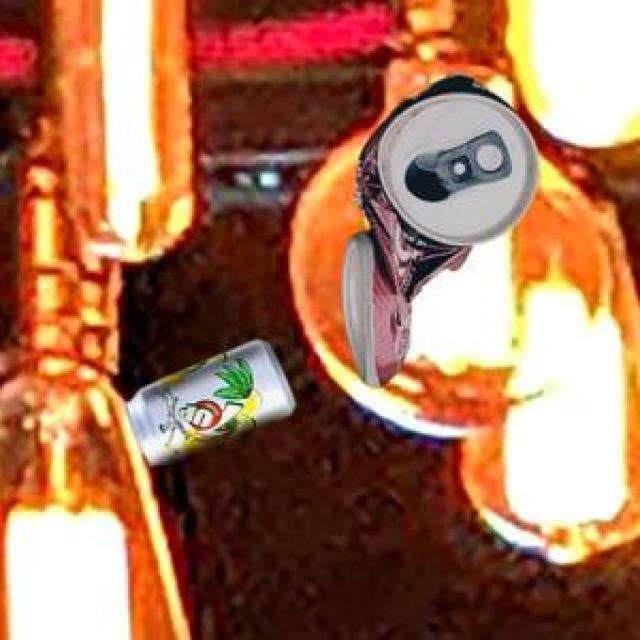Can: (338, 69, 537, 383), (123, 338, 291, 460)
